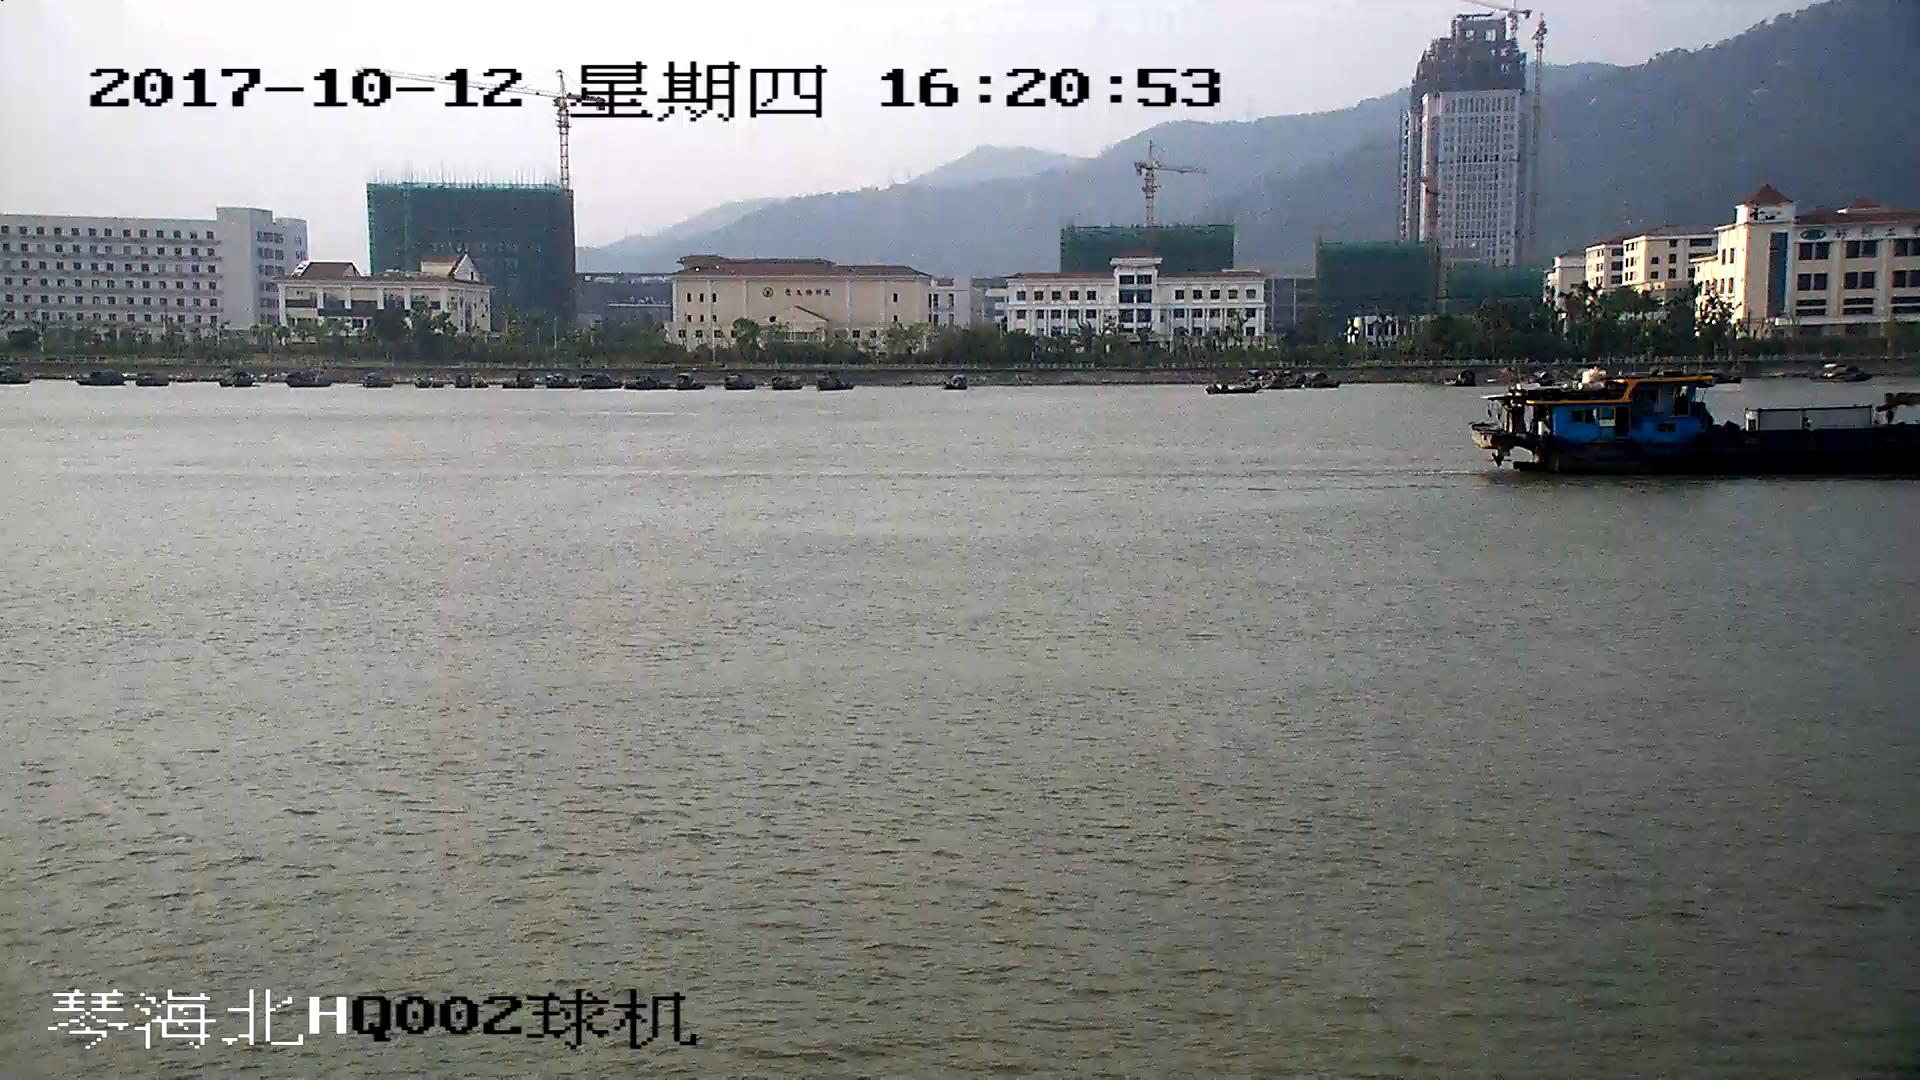fishing boat: (1471, 373, 1920, 482)
